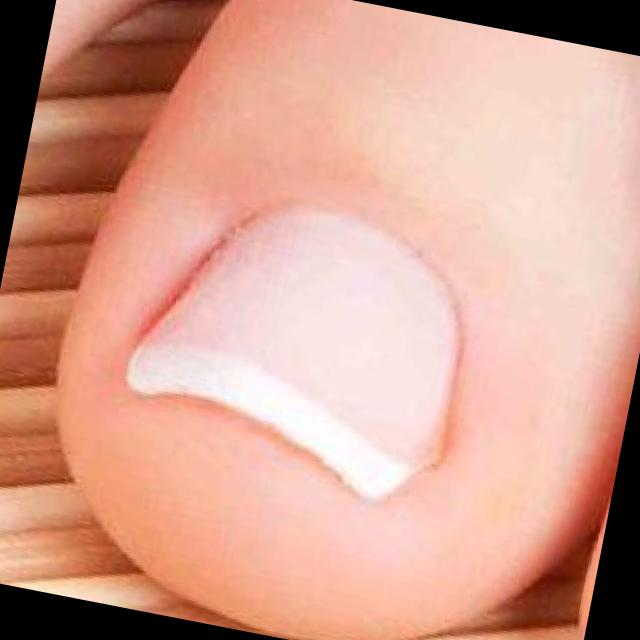Nail: (125, 215, 459, 509)
